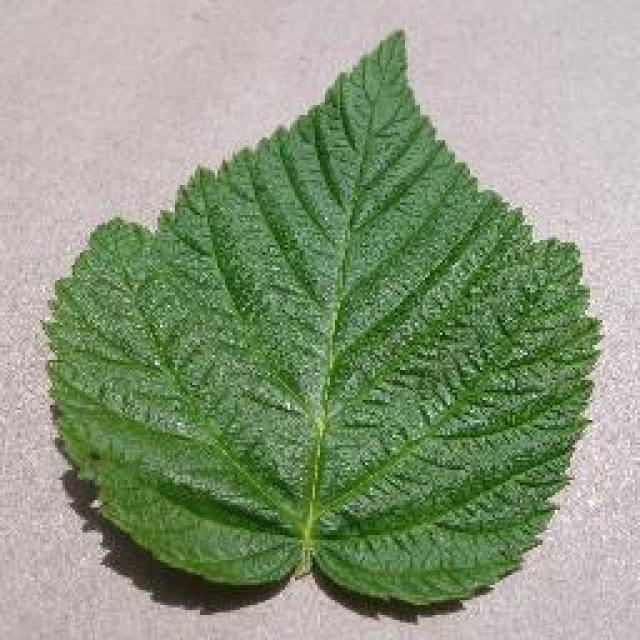Ras_healthy: (78, 128, 591, 541)
